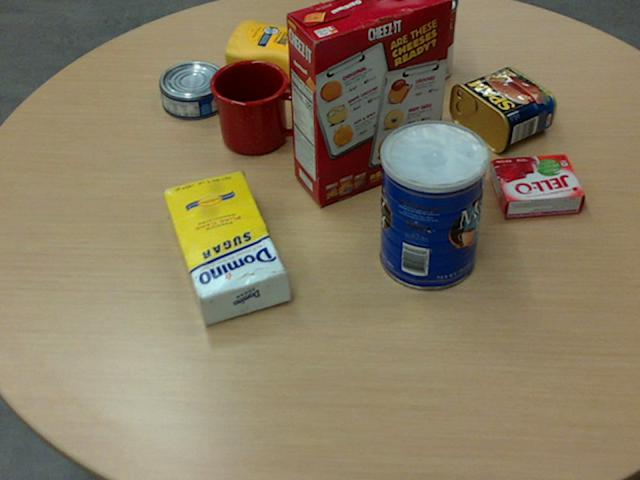cracker_box: (285, 0, 453, 204)
gelatin_box: (490, 152, 584, 215)
large_marker: (381, 25, 400, 115)
master_chef_can: (379, 120, 488, 290)
mug: (208, 58, 308, 154)
mustard_bottle: (224, 18, 376, 87)
potted_meat_can: (448, 66, 555, 152)
sugar_box: (160, 169, 289, 325)
tomato_soup_can: (402, 0, 458, 81)
tuna_fish_can: (158, 59, 226, 117)
